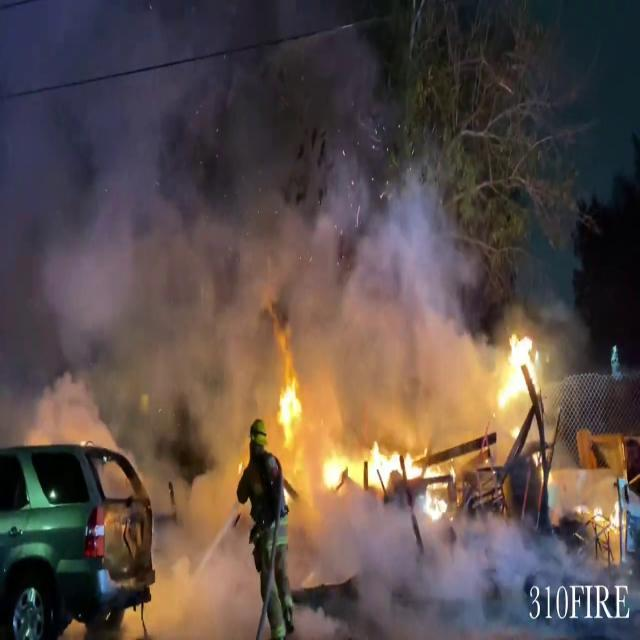Fire: (318, 424, 454, 510), (490, 326, 551, 408), (272, 358, 308, 442)
Smoke: (1, 1, 499, 420)
